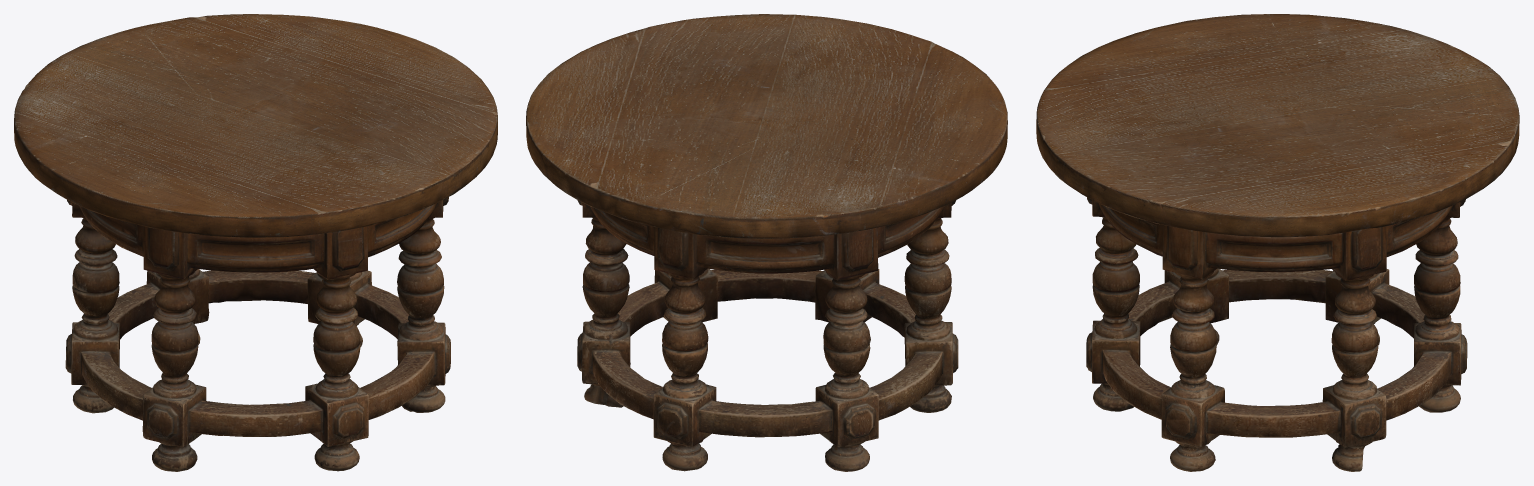
Rendered from Wooden Table.obj.
The picture shows the model from 3 angles, left to right: view 1: azimuth 30°, elevation 25°; view 2: azimuth 150°, elevation 25°; view 3: azimuth 270°, elevation 25°; orthographic projection.
Visible parts, largest first — view 1: Aset_wood_other_M_uc1kebzfa_LOD0; view 2: Aset_wood_other_M_uc1kebzfa_LOD0; view 3: Aset_wood_other_M_uc1kebzfa_LOD0.
Part boxes in pixels (left/top/right/bottom): Aset_wood_other_M_uc1kebzfa_LOD0: left=14, top=14, right=497, bottom=471; Aset_wood_other_M_uc1kebzfa_LOD0: left=526, top=14, right=1007, bottom=471; Aset_wood_other_M_uc1kebzfa_LOD0: left=1036, top=14, right=1519, bottom=471.
Size of the model in its own units: 0.7843 by 0.5229 by 0.7854.
Materials: 1 (1 with a texture image).
